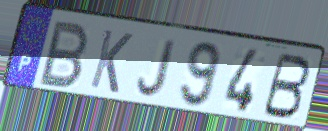4: (221, 47, 261, 115)
9: (177, 40, 221, 111)
B: (35, 19, 91, 91), (259, 50, 313, 121)
J: (135, 37, 180, 99)
K: (87, 27, 135, 96)
